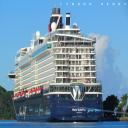cruises: (8, 8, 106, 125)
